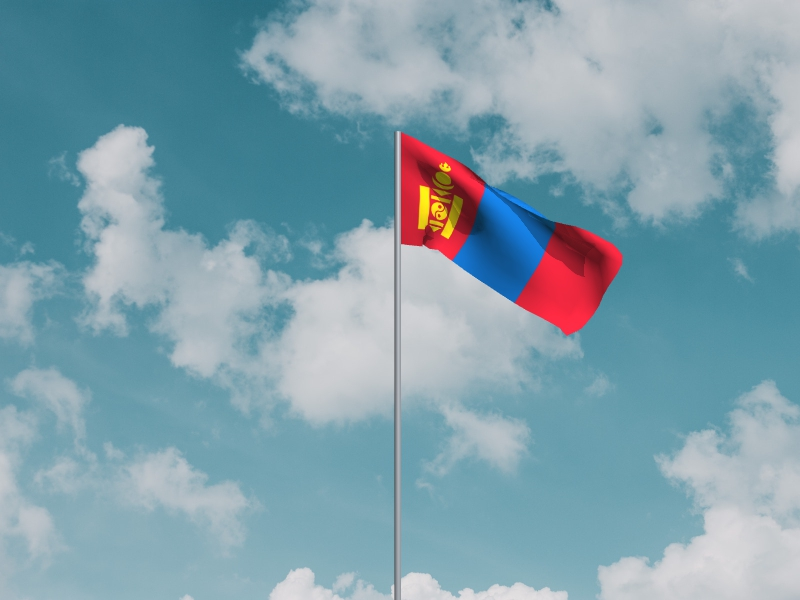mn: (402, 133, 624, 337)
